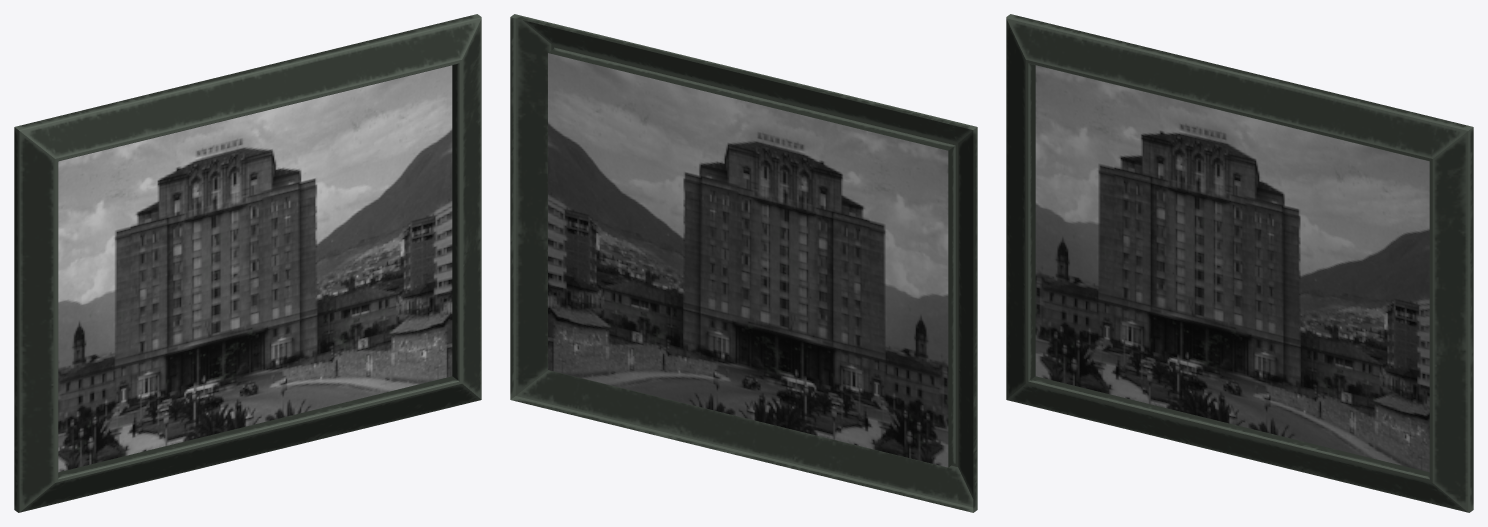
File: SM_Cuadro_003.fbx
3 views of the same model, side by side, from view 1: azimuth 30°, elevation 25°; view 2: azimuth 150°, elevation 25°; view 3: azimuth 330°, elevation 25° (orthographic).
Parts seen in each view (by area): view 1: SM_Cuadro_003; view 2: SM_Cuadro_003; view 3: SM_Cuadro_003.
Boxes of the visible parts, x1=… form: SM_Cuadro_003: x1=14, y1=14, x2=481, y2=512; SM_Cuadro_003: x1=510, y1=14, x2=977, y2=512; SM_Cuadro_003: x1=1006, y1=14, x2=1473, y2=512.
Size of the model in its own units: 140 by 110 by 6.73.
